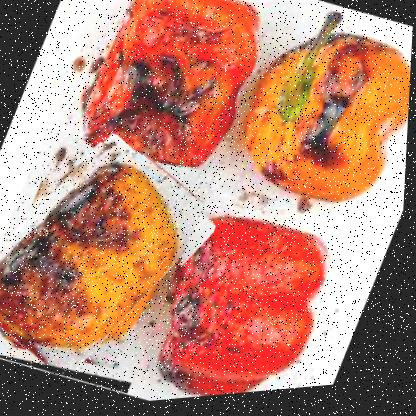capsicum_rotten: (0, 114, 225, 408)
